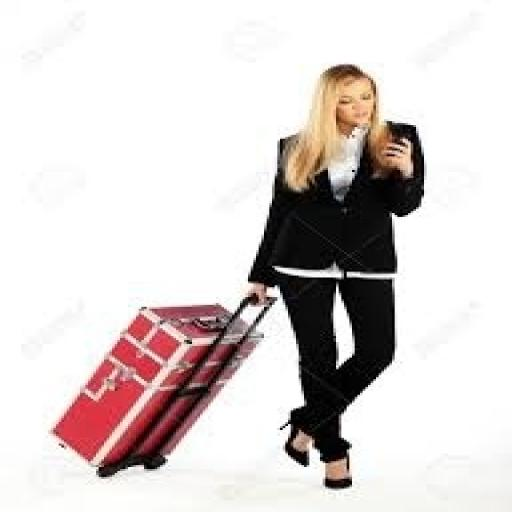calling: (240, 60, 427, 490)
